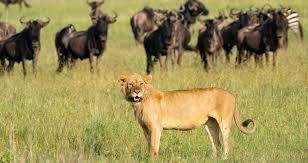buffalo: (129, 1, 305, 68), (55, 9, 118, 74), (0, 13, 53, 82)
lion: (114, 69, 266, 160)
